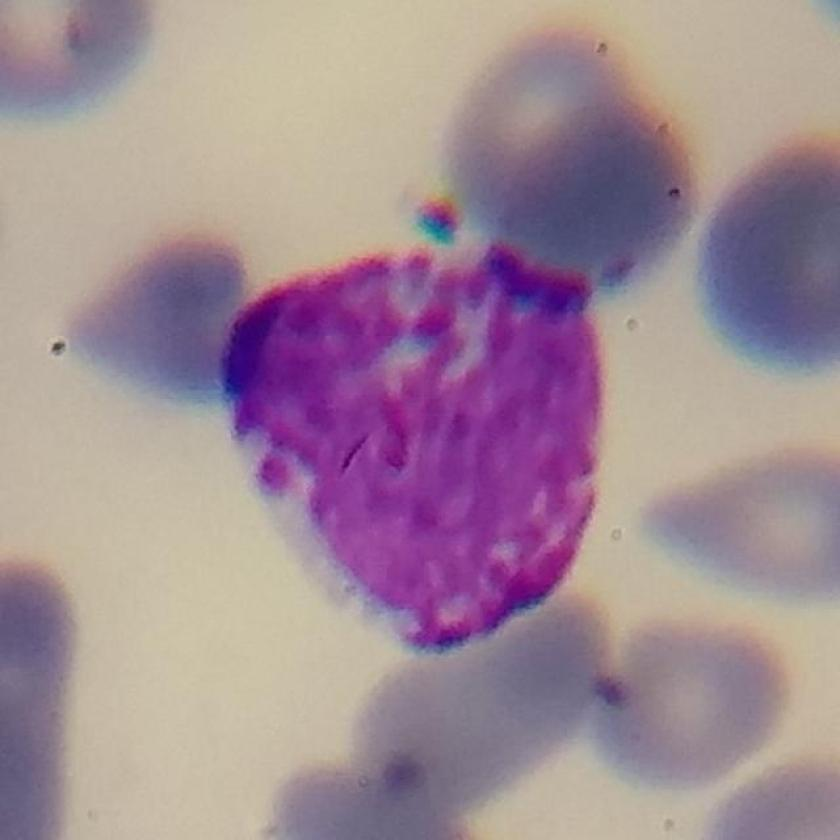basophil: (211, 231, 613, 665)
